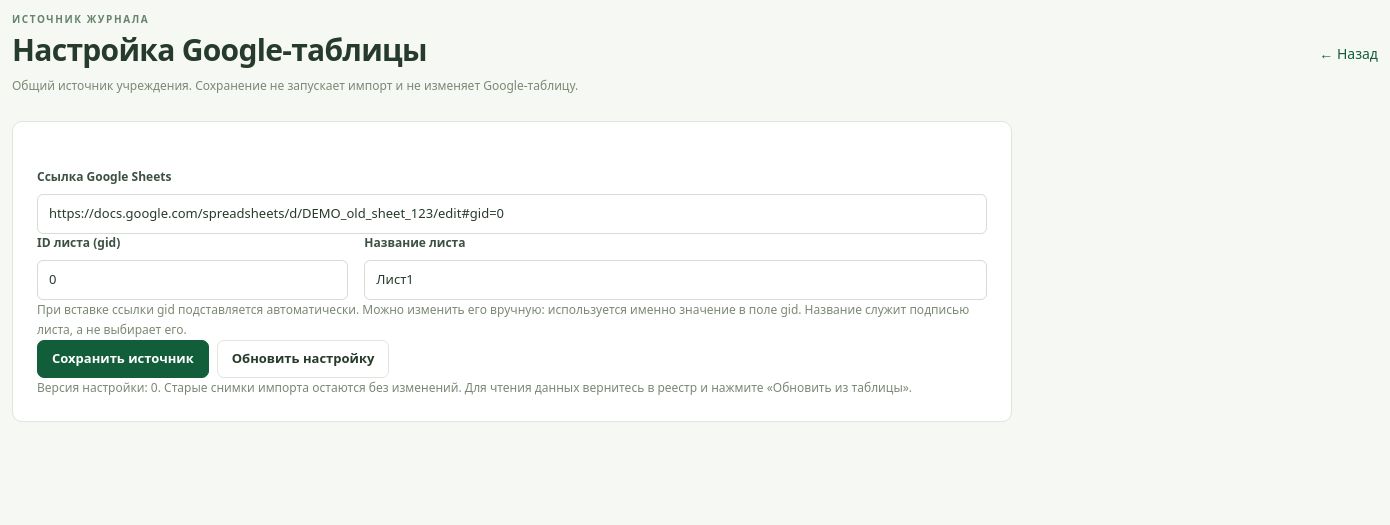
it: does not send a save when browser storage cannot retain its replay packet
Step 1. Replace the text in the field named "source_sheet_name" with "Журнал 2026" → (676, 280), box [364,260,987,300]
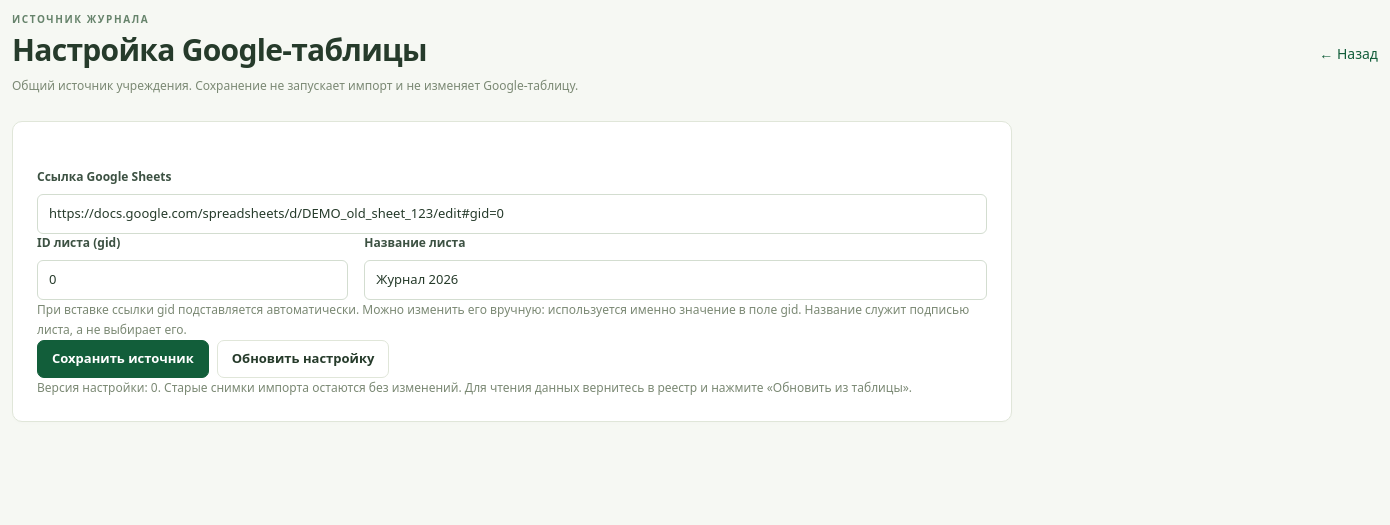
Step 2. Submit the form, box [37,168,987,397]
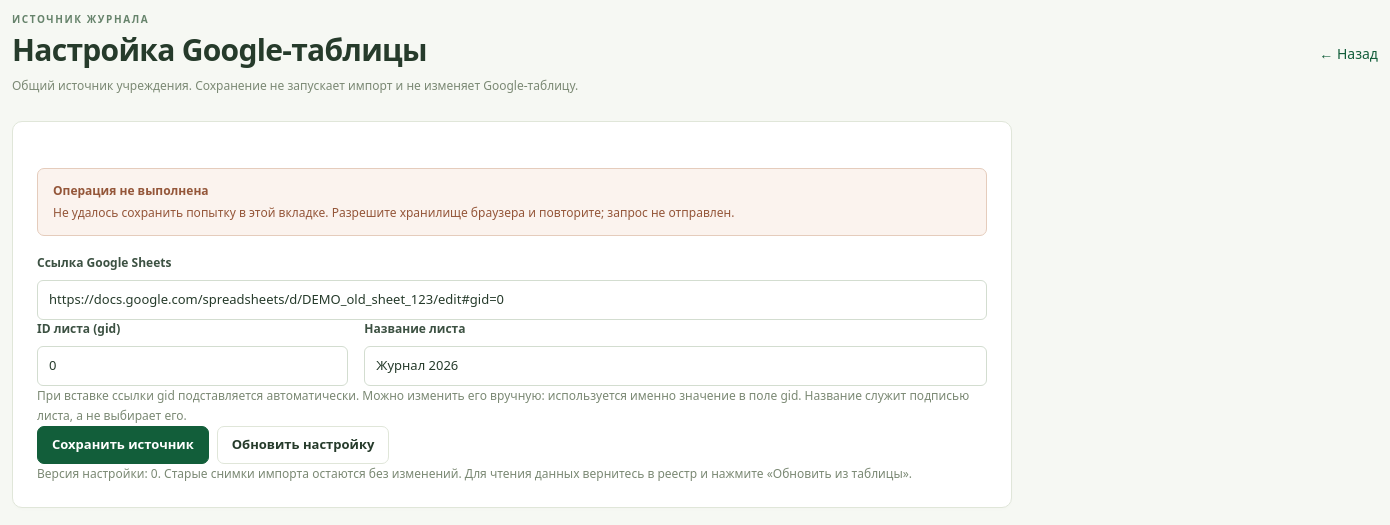
Check: the field named "source_sheet_name" is enabled, box [364,346,987,386]
Check: the text "запрос не отправлен" is shown, box [53,204,734,221]
